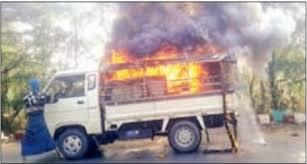fire: (106, 42, 211, 92)
